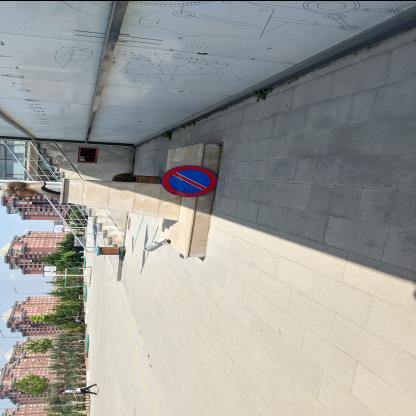No Waiting: (162, 165, 218, 197)
